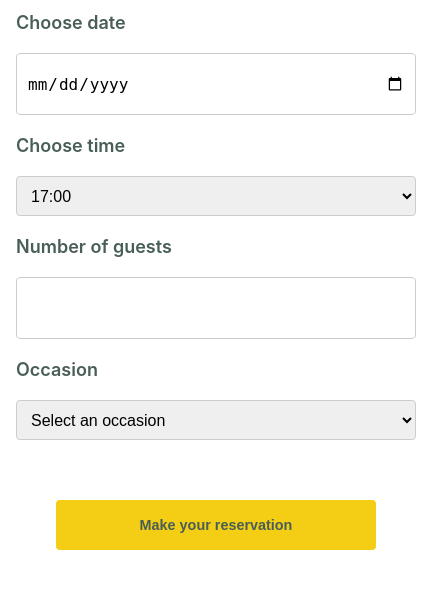
Test: BookingForm - Form validation › Should display an error message when the number of guests is less than 1
Type "0" into the number field labelled "Number of guests" at coordinates (216, 308), box [16,277,416,339]
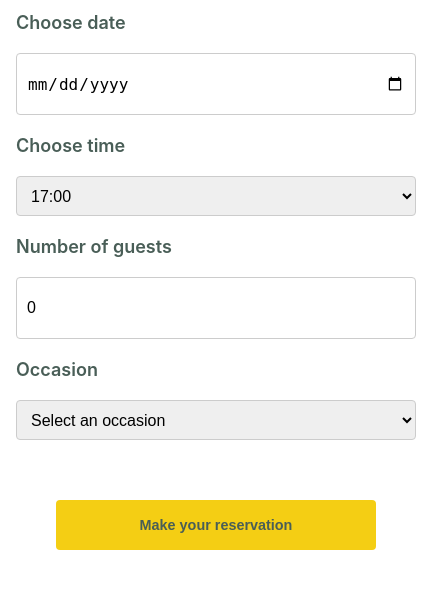
Leave the number field labelled "Number of guests", box [16,277,416,339]
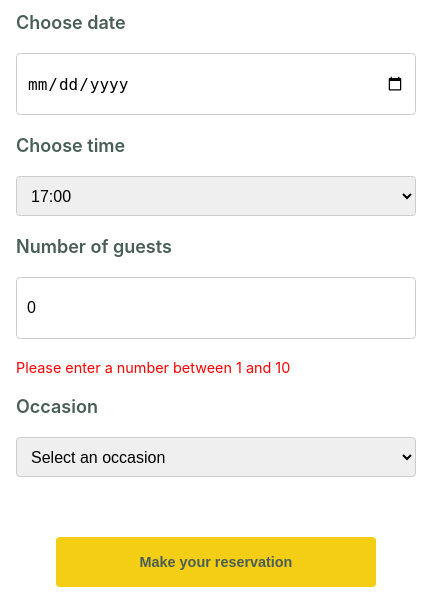
Expected: the text "Please enter a number between 1 and 10" is shown, [16,359,290,376]
